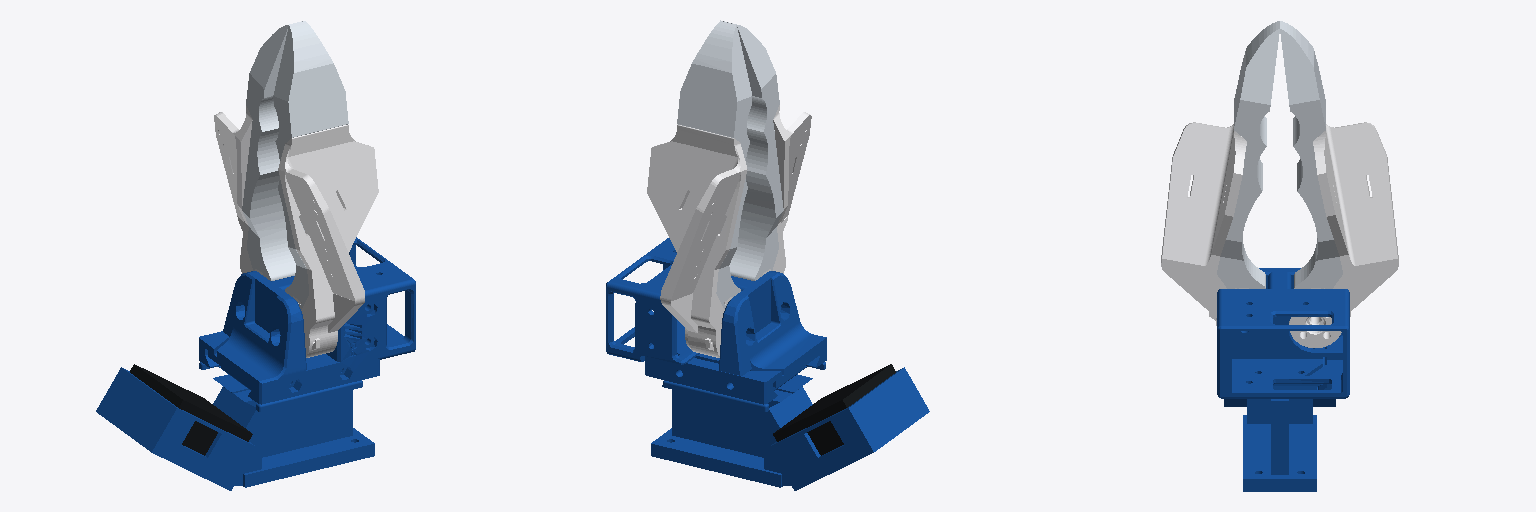
The robot description file, URDF, robot "pg_chopstick_iso50_d405":
<?xml version="1.0"?>
<!-- PG Chopstick, generated by chopstick/cad/urdf.py. Units: m, rad. -->
<robot name="pg_chopstick_iso50_d405">
  <material name="pg_blue"><color rgba="0.12 0.37 0.68 1"/></material>
  <material name="pg_white"><color rgba="0.96 0.96 0.97 1"/></material>
  <material name="tpu"><color rgba="0.87 0.9 0.93 1"/></material>
  <material name="camera"><color rgba="0.11 0.12 0.13 1"/></material>
  <link name="chopstick_flange"/>
  <link name="chopstick_base">
    <visual name="chopstick_base_sa"><origin xyz="0 0 0" rpy="0 0 0"/><geometry><mesh filename="meshes/chopstick_base_sa.stl" scale="0.001 0.001 0.001"/></geometry><material name="pg_blue"/></visual>
    <collision name="chopstick_base_sa"><origin xyz="0 0 0" rpy="0 0 0"/><geometry><mesh filename="meshes/chopstick_base_sa.stl" scale="0.001 0.001 0.001"/></geometry></collision>
    <visual name="chopstick_clip_sa"><origin xyz="0 0 0" rpy="0 0 0"/><geometry><mesh filename="meshes/chopstick_clip_sa.stl" scale="0.001 0.001 0.001"/></geometry><material name="pg_blue"/></visual>
    <collision name="chopstick_clip_sa"><origin xyz="0 0 0" rpy="0 0 0"/><geometry><mesh filename="meshes/chopstick_clip_sa.stl" scale="0.001 0.001 0.001"/></geometry></collision>
    <visual name="d405_frame"><origin xyz="0 0 0" rpy="0 0 0"/><geometry><mesh filename="meshes/d405_frame.stl" scale="0.001 0.001 0.001"/></geometry><material name="pg_blue"/></visual>
    <collision name="d405_frame"><origin xyz="0 0 0" rpy="0 0 0"/><geometry><mesh filename="meshes/d405_frame.stl" scale="0.001 0.001 0.001"/></geometry></collision>
    <visual name="iso_flange_plate"><origin xyz="0 0 0" rpy="0 0 0"/><geometry><mesh filename="meshes/iso_flange_plate.stl" scale="0.001 0.001 0.001"/></geometry><material name="pg_blue"/></visual>
    <collision name="iso_flange_plate"><origin xyz="0 0 0" rpy="0 0 0"/><geometry><mesh filename="meshes/iso_flange_plate.stl" scale="0.001 0.001 0.001"/></geometry></collision>
    <visual name="d405_envelope"><origin xyz="0 0 0" rpy="0 0 0"/><geometry><mesh filename="meshes/d405_envelope.stl" scale="0.001 0.001 0.001"/></geometry><material name="camera"/></visual>
    <collision name="d405_envelope"><origin xyz="0 0 0" rpy="0 0 0"/><geometry><mesh filename="meshes/d405_envelope.stl" scale="0.001 0.001 0.001"/></geometry></collision>
    <visual name="servo_envelope"><origin xyz="0 0 0" rpy="0 0 0"/><geometry><mesh filename="meshes/servo_envelope.stl" scale="0.001 0.001 0.001"/></geometry><material name="camera"/></visual>
    <collision name="servo_envelope"><origin xyz="0 0 0" rpy="0 0 0"/><geometry><mesh filename="meshes/servo_envelope.stl" scale="0.001 0.001 0.001"/></geometry></collision>
    <inertial><origin xyz="0.0461954 0.00121845 -0.00246698" rpy="0 0 0"/><mass value="0.31868"/><inertia ixx="0.0004626" ixy="-8.631e-06" ixz="0.0001676" iyy="0.0006413" iyz="1.178e-05" izz="0.0002949"/></inertial>
  </link>
  <link name="chopstick_jaw_left">
    <visual name="jaw_left_sa"><origin xyz="0 0 0" rpy="0 0 0"/><geometry><mesh filename="meshes/jaw_left_sa_jawframe.stl" scale="0.001 0.001 0.001"/></geometry><material name="pg_white"/></visual>
    <collision name="jaw_left_sa"><origin xyz="0 0 0" rpy="0 0 0"/><geometry><mesh filename="meshes/jaw_left_sa_jawframe.stl" scale="0.001 0.001 0.001"/></geometry></collision>
    <visual name="tip_tpu_left"><origin xyz="0 0 0" rpy="0 0 0"/><geometry><mesh filename="meshes/tip_tpu_left_jawframe.stl" scale="0.001 0.001 0.001"/></geometry><material name="tpu"/></visual>
    <collision name="tip_tpu_left"><origin xyz="0 0 0" rpy="0 0 0"/><geometry><mesh filename="meshes/tip_tpu_left_jawframe.stl" scale="0.001 0.001 0.001"/></geometry></collision>
    <inertial><origin xyz="0.0644882 0.00198443 -0.00308682" rpy="0 0 0"/><mass value="0.049091"/><inertia ixx="6.696e-06" ixy="7.42e-06" ixz="8.384e-07" iyy="6.992e-05" iyz="-4.065e-07" izz="7.082e-05"/></inertial>
  </link>
  <link name="chopstick_tip_left"/>
  <link name="chopstick_jaw_right">
    <visual name="jaw_right"><origin xyz="0 0 0" rpy="0 0 0"/><geometry><mesh filename="meshes/jaw_right_jawframe.stl" scale="0.001 0.001 0.001"/></geometry><material name="pg_white"/></visual>
    <collision name="jaw_right"><origin xyz="0 0 0" rpy="0 0 0"/><geometry><mesh filename="meshes/jaw_right_jawframe.stl" scale="0.001 0.001 0.001"/></geometry></collision>
    <visual name="tip_tpu_right"><origin xyz="0 0 0" rpy="0 0 0"/><geometry><mesh filename="meshes/tip_tpu_right_jawframe.stl" scale="0.001 0.001 0.001"/></geometry><material name="tpu"/></visual>
    <collision name="tip_tpu_right"><origin xyz="0 0 0" rpy="0 0 0"/><geometry><mesh filename="meshes/tip_tpu_right_jawframe.stl" scale="0.001 0.001 0.001"/></geometry></collision>
    <inertial><origin xyz="0.0648709 -0.00196465 -0.00300603" rpy="0 0 0"/><mass value="0.048723"/><inertia ixx="6.645e-06" ixy="-7.43e-06" ixz="1.141e-06" iyy="6.876e-05" iyz="3.844e-07" izz="6.963e-05"/></inertial>
  </link>
  <link name="chopstick_tip_right"/>
  <link name="chopstick_camera"/>
  <link name="chopstick_tcp"/>
  <joint name="chopstick_mount_joint" type="fixed"><parent link="chopstick_flange"/><child link="chopstick_base"/><origin xyz="0 0 0.016" rpy="0 -1.57079633 0"/></joint>
  <joint name="chopstick_jaw" type="revolute">
    <parent link="chopstick_base"/><child link="chopstick_jaw_left"/>
    <origin xyz="0.06733 0.015 0" rpy="0 0 0"/><axis xyz="0 0 1"/>
    <limit lower="0.00000" upper="1.25664" effort="4" velocity="6"/>
  </joint>
  <joint name="chopstick_tip_left_joint" type="fixed"><parent link="chopstick_jaw_left"/><child link="chopstick_tip_left"/><origin xyz="0.137417 -0.015085 -0.003671" rpy="0 0 0"/></joint>
  <joint name="chopstick_jaw_right" type="revolute">
    <parent link="chopstick_base"/><child link="chopstick_jaw_right"/>
    <origin xyz="0.06733 -0.015 0" rpy="0 0 0"/><axis xyz="0 0 1"/>
    <limit lower="-1.25664" upper="0.00000" effort="4" velocity="6"/>
    <mimic joint="chopstick_jaw" multiplier="-1" offset="0"/>
  </joint>
  <joint name="chopstick_tip_right_joint" type="fixed"><parent link="chopstick_jaw_right"/><child link="chopstick_tip_right"/><origin xyz="0.137417 0.015085 -0.003671" rpy="0 0 0"/></joint>
  <joint name="chopstick_camera_joint" type="fixed"><parent link="chopstick_base"/><child link="chopstick_camera"/><origin xyz="0.039420249 0 0.047403871" rpy="0 0.610864816 0"/></joint>
  <joint name="chopstick_tcp_joint" type="fixed"><parent link="chopstick_base"/><child link="chopstick_tcp"/><origin xyz="0.204747 0 -0.003671" rpy="0 0 0"/></joint>
</robot>

--- Facts derived from the render (not from the file) ---
Views: 3 orthographic renders of the robot side by side, from view 1: azimuth 30°, elevation 25°; view 2: azimuth 150°, elevation 25°; view 3: azimuth 270°, elevation 25°.
Robot: pg_chopstick_iso50_d405 — 8 links, 7 joints (2 revolute, 5 fixed); root link chopstick_flange; default pose: every joint at zero.
Links seen in each view (by area): view 1: chopstick_base, chopstick_jaw_right, chopstick_jaw_left; view 2: chopstick_base, chopstick_jaw_left, chopstick_jaw_right; view 3: chopstick_base, chopstick_jaw_left, chopstick_jaw_right.
Boxes of the visible links, left/top/right/bottom form: chopstick_base: left=96, top=237, right=415, bottom=490; chopstick_jaw_right: left=273, top=21, right=378, bottom=357; chopstick_jaw_left: left=214, top=21, right=302, bottom=280; chopstick_base: left=606, top=238, right=929, bottom=490; chopstick_jaw_left: left=647, top=20, right=751, bottom=357; chopstick_jaw_right: left=723, top=21, right=811, bottom=280; chopstick_base: left=1217, top=268, right=1349, bottom=491; chopstick_jaw_left: left=1280, top=21, right=1398, bottom=347; chopstick_jaw_right: left=1161, top=21, right=1279, bottom=325.
Size in the robot's own frame: 0.1296 by 0.1008 by 0.2047 metres.
Meshes: 10 distinct files referenced, 8 mesh visuals loaded (8 binary STL); not drawn: 2 (reference not matched to a file when rendering).
